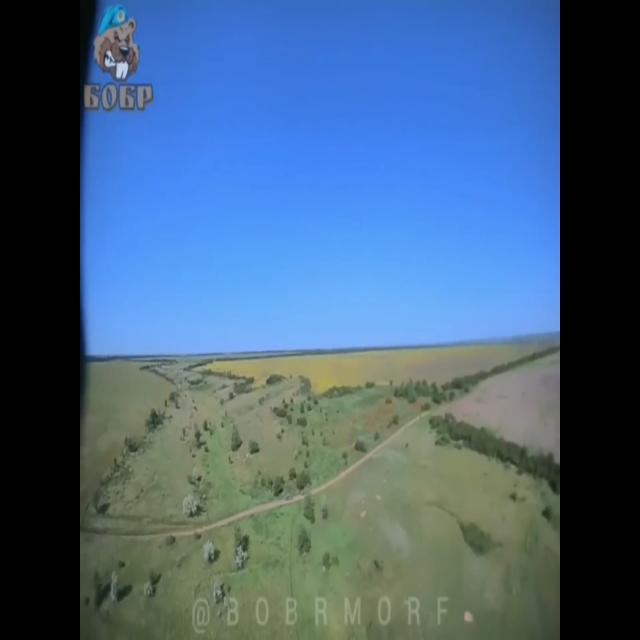cars: (284, 493, 294, 501)
